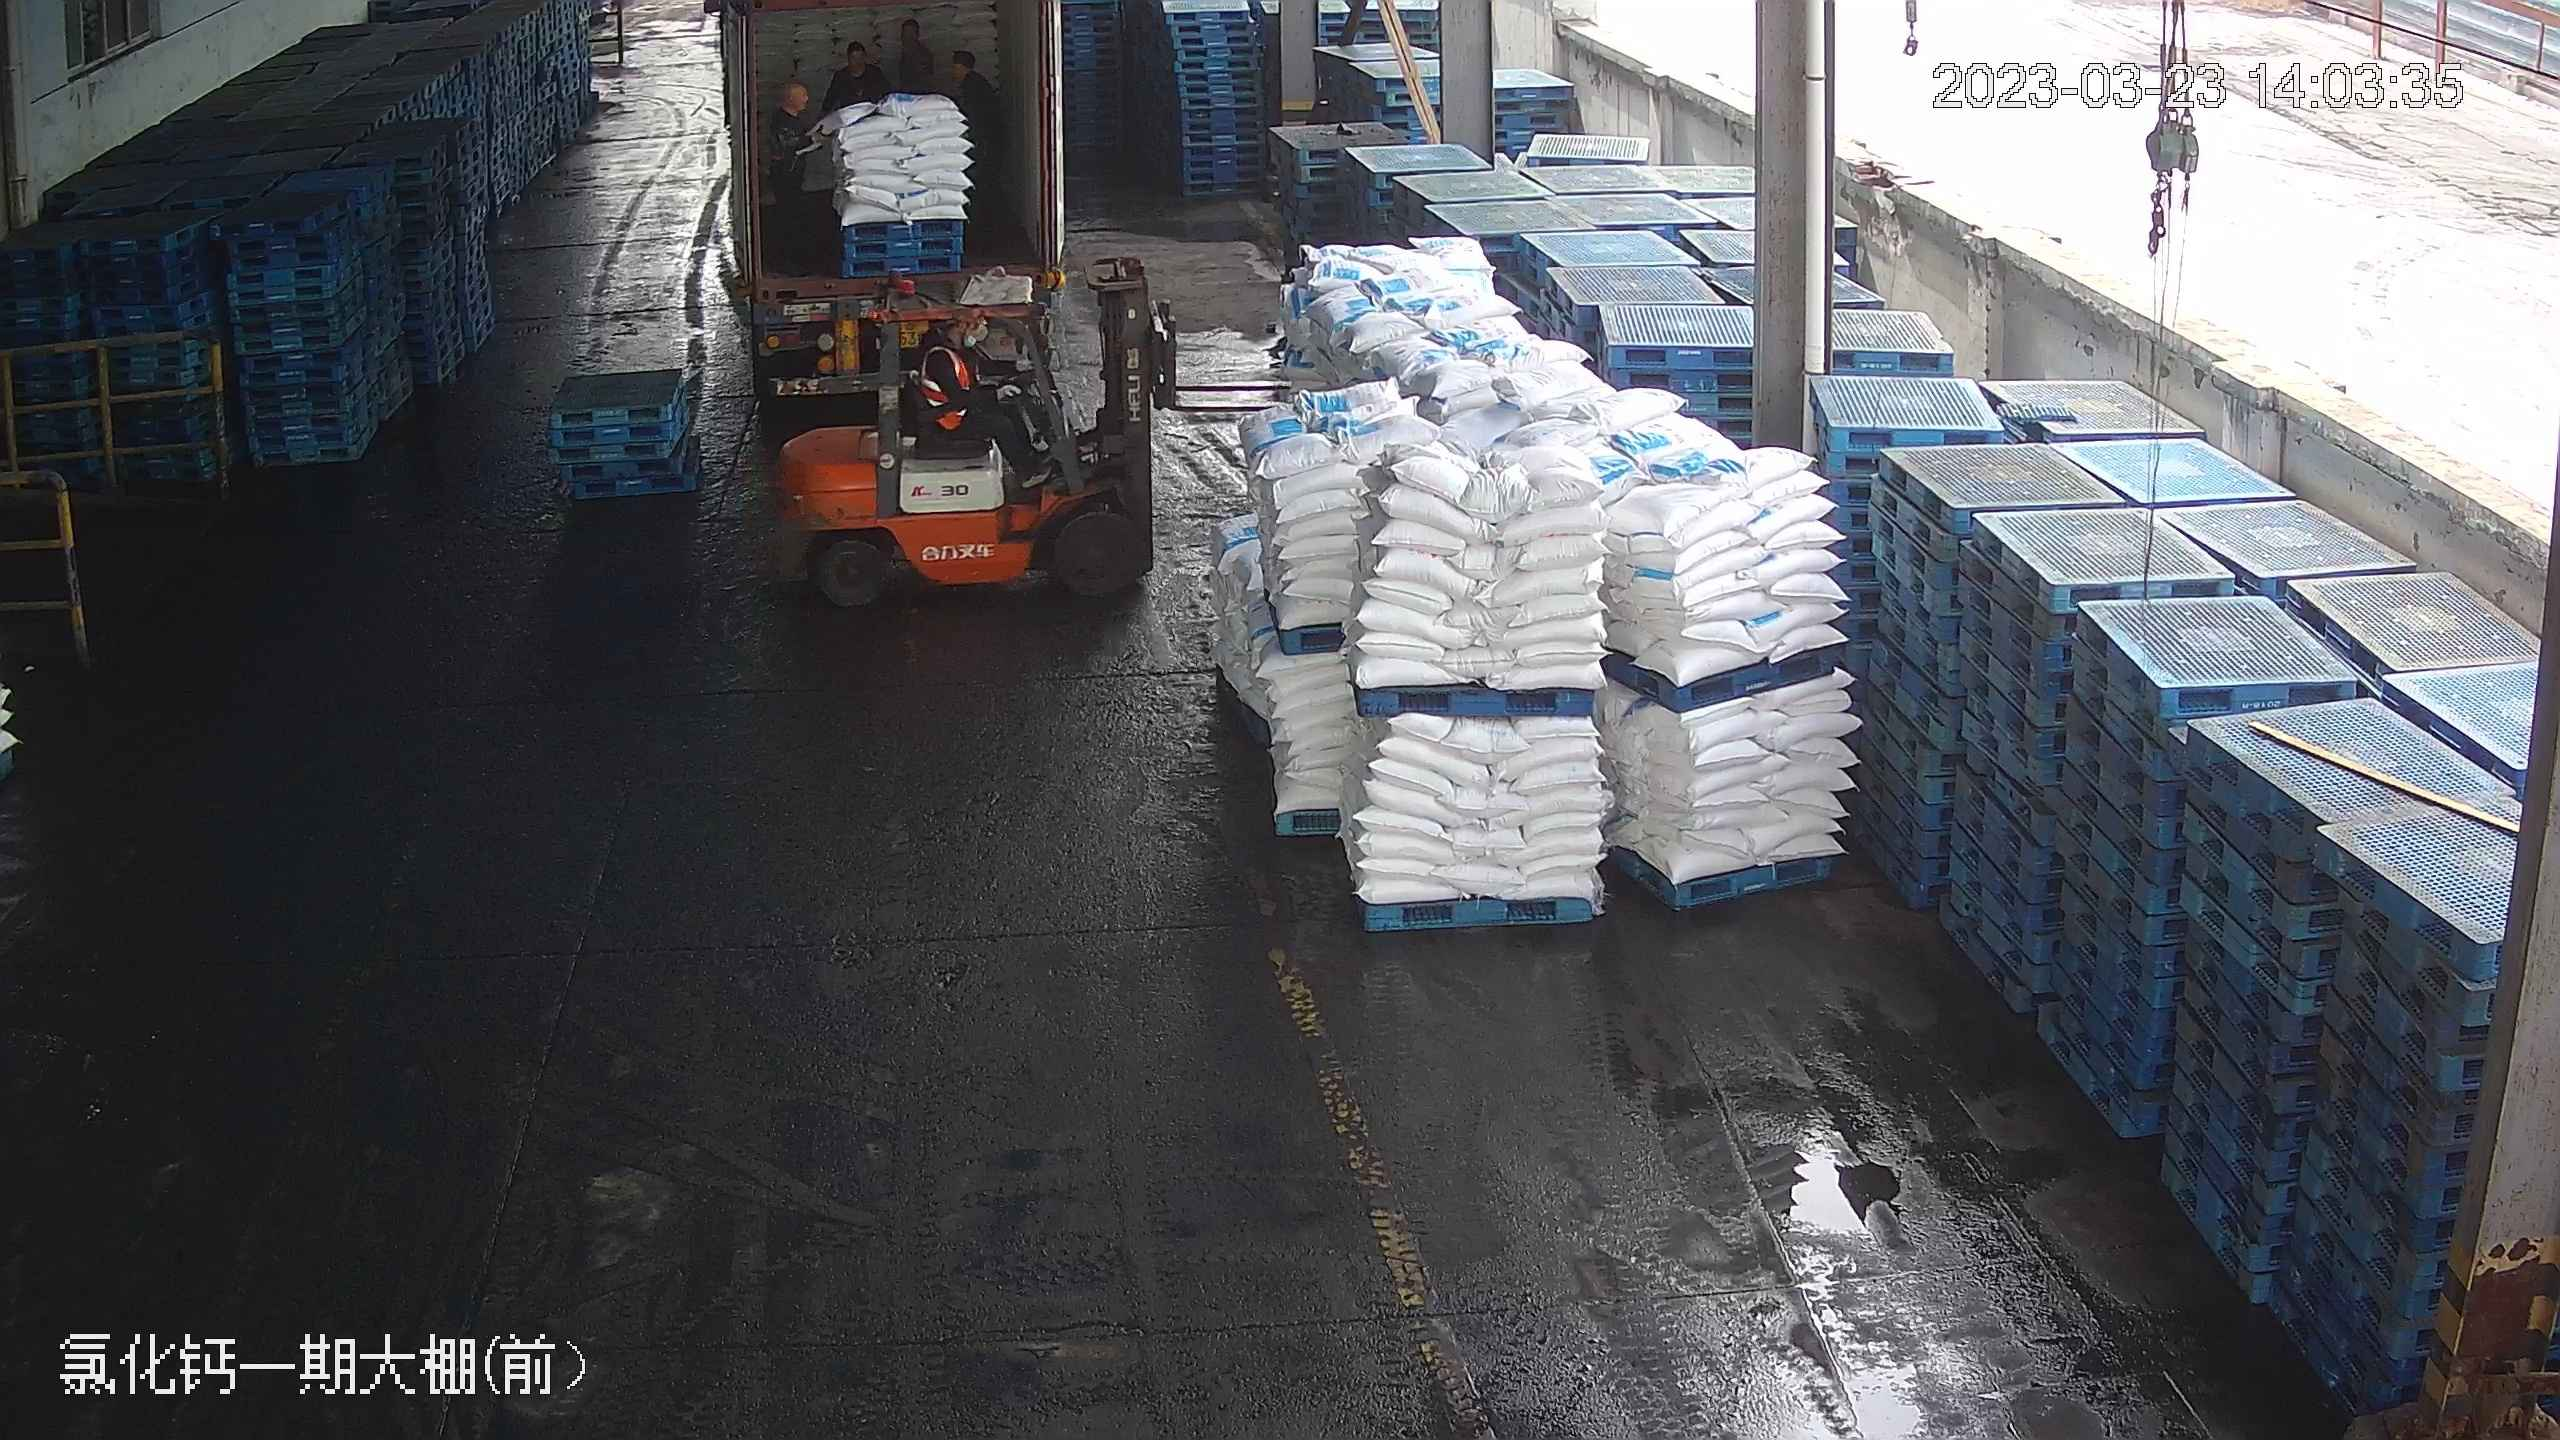head: (903, 318, 971, 380), (775, 79, 824, 141), (833, 38, 883, 100), (944, 51, 997, 101), (896, 17, 935, 82)
people: (907, 316, 1041, 476), (947, 48, 1010, 185)
truck: (715, 13, 1066, 408)
